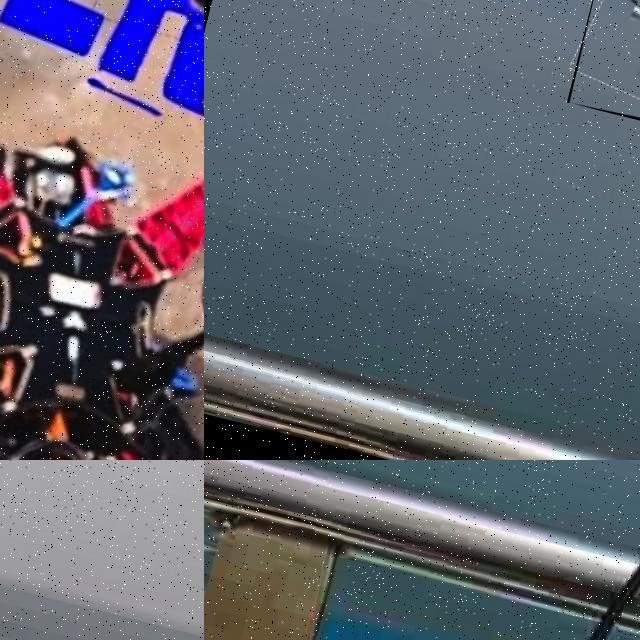drone: (0, 0, 204, 460), (566, 0, 640, 156)
